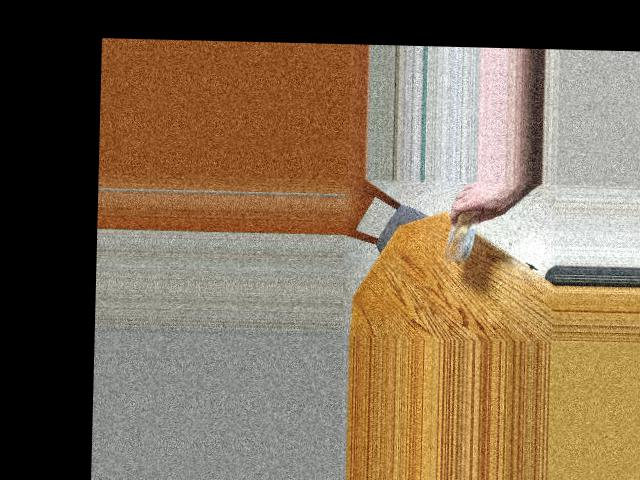cheese: (443, 210, 488, 258)
